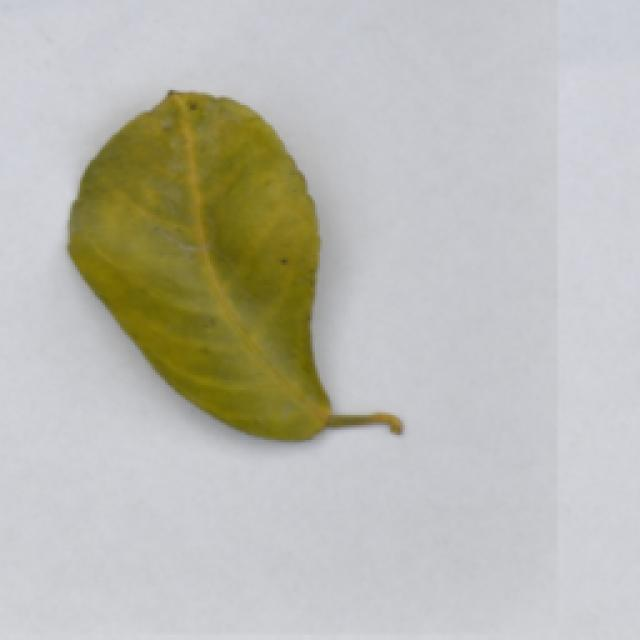greening: (58, 83, 427, 453)
